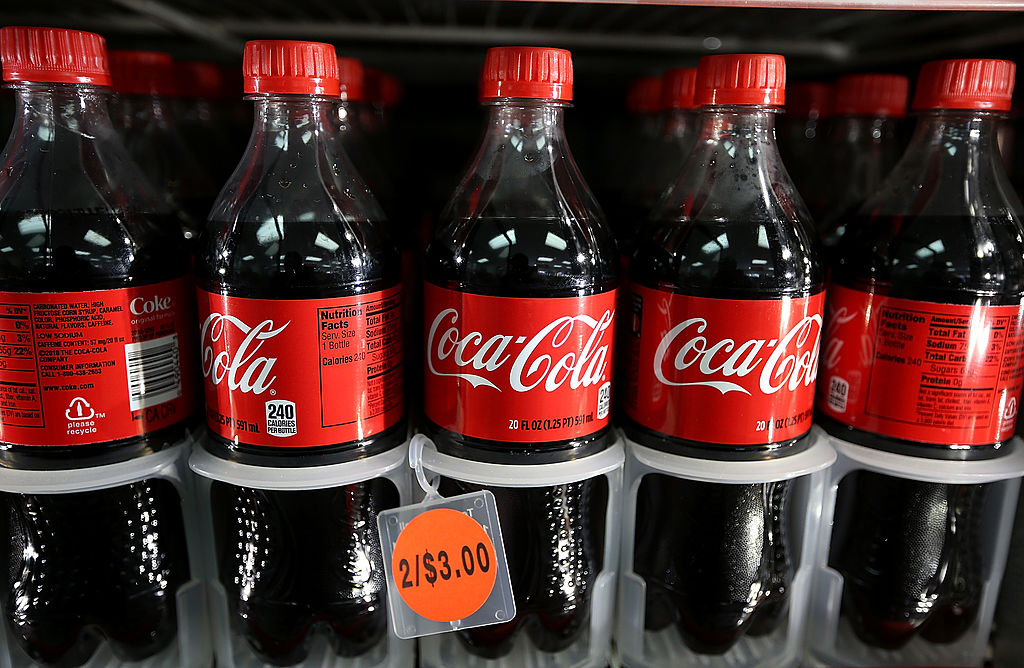coke: (214, 45, 409, 641), (7, 28, 186, 640), (843, 72, 1014, 645), (650, 62, 819, 638), (439, 52, 615, 477)
